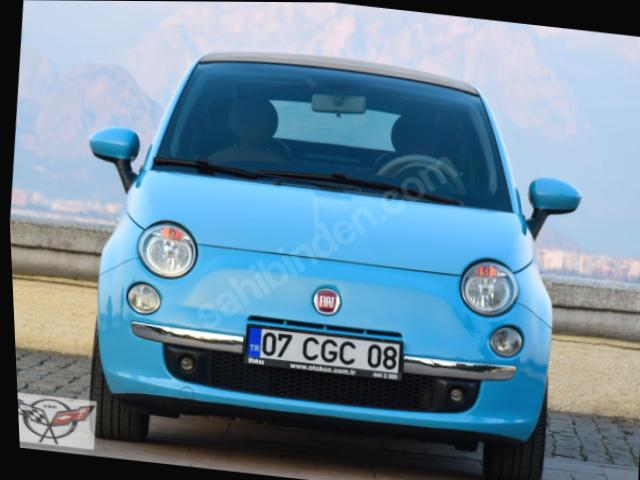plaka: (247, 327, 401, 379)
